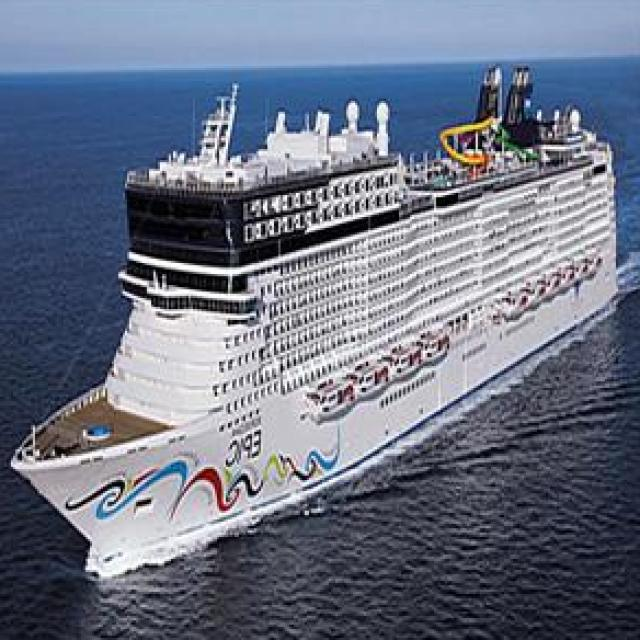passenger ship: (11, 56, 627, 562)
